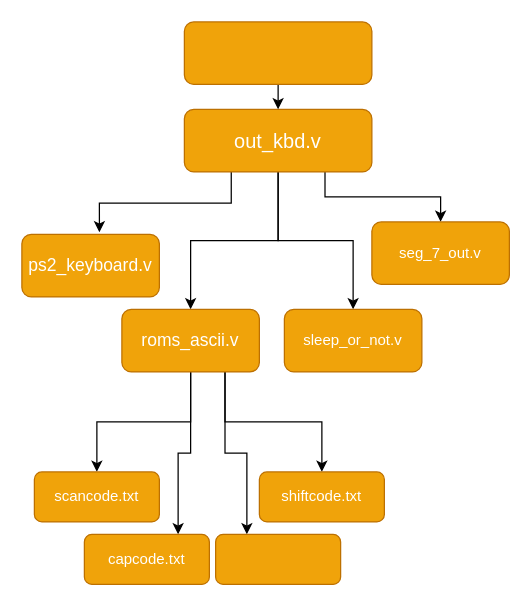
The diagram is 531 pixels wide and 616 high, and some of its shapes have lost their labels. Each missing label, with the centre of its shape:
capshiftcode.txt: (277,558)
exp08_4.v: (277,52)
